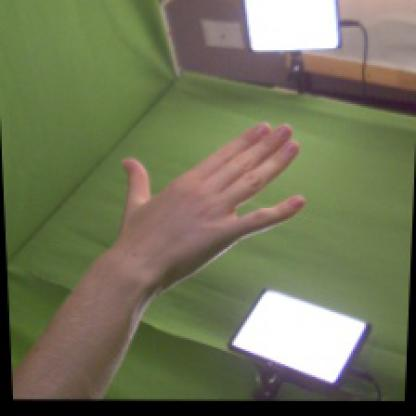Hand: (122, 124, 307, 275)
